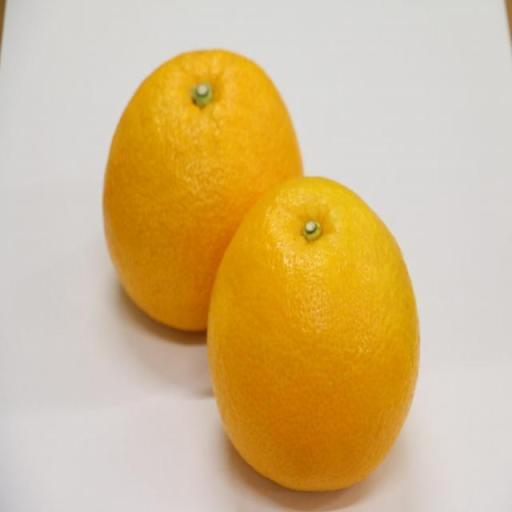fruit: (208, 178, 418, 489), (103, 51, 300, 329)
